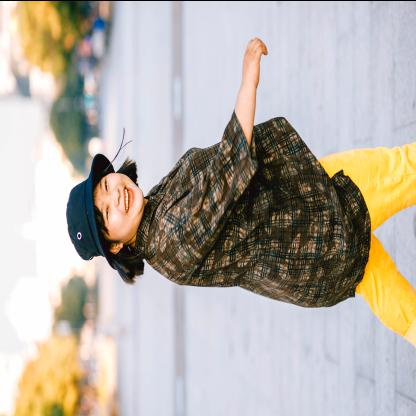Eye: (105, 202, 111, 224), (103, 176, 111, 192)
Mouth: (122, 184, 134, 214)
Nose: (110, 186, 121, 206)
